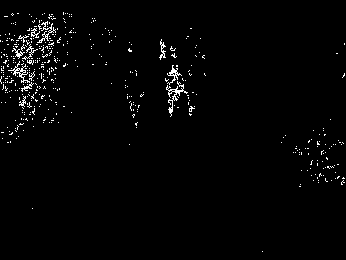person: (163, 61, 183, 119)
